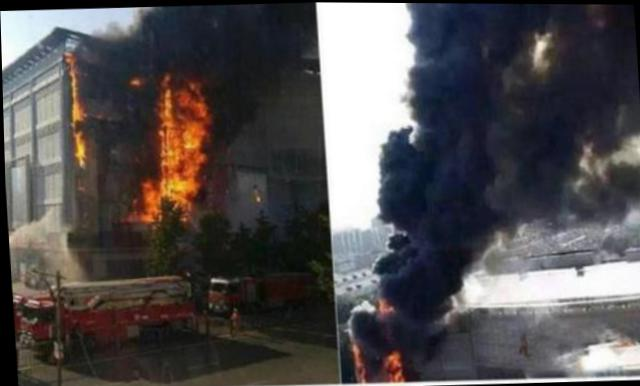fire: (152, 78, 207, 214), (123, 174, 160, 222), (65, 55, 83, 120), (347, 341, 364, 380), (381, 347, 402, 378), (69, 127, 82, 165)
